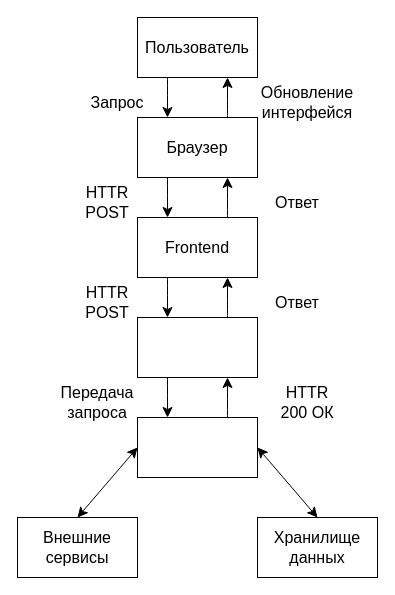
This 395x595 diagram has some shape labels left out. Here are the shapes that lost their labels. From the top down, the box of each, then its label:
(136, 316, 258, 378): API
(136, 416, 258, 478): Backend
